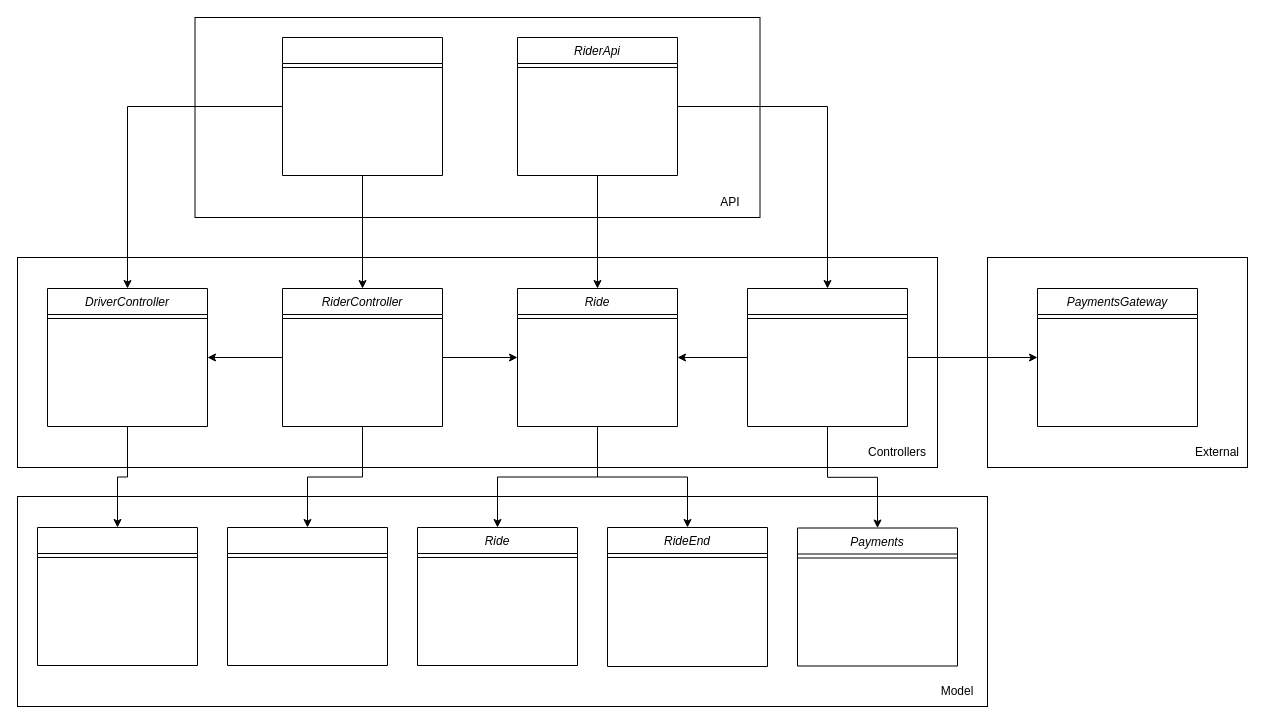
This 1265x724 diagram has some shape labels left out. The box of each missing label's shape, as (x1, y1, x2, y2) in pixels:
Driver: (36, 526, 198, 666)
DriverApi: (282, 36, 442, 176)
PaymentsController: (746, 288, 908, 426)
Rider: (226, 526, 388, 666)
